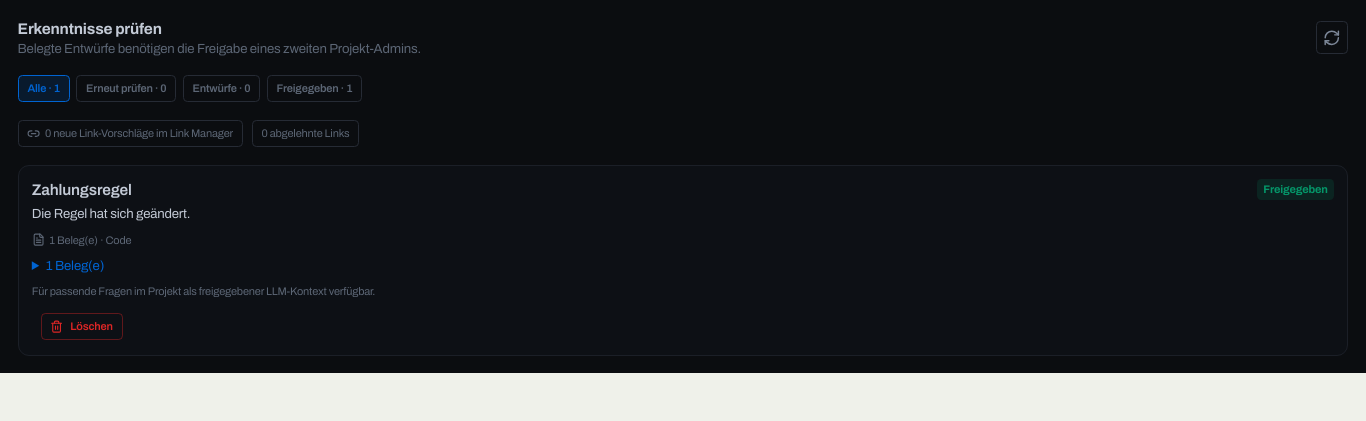
Test: keeps a failed deletion visible and shows the error
Step 1. Click the button "Löschen" → (82,327), box [41, 313, 123, 340]
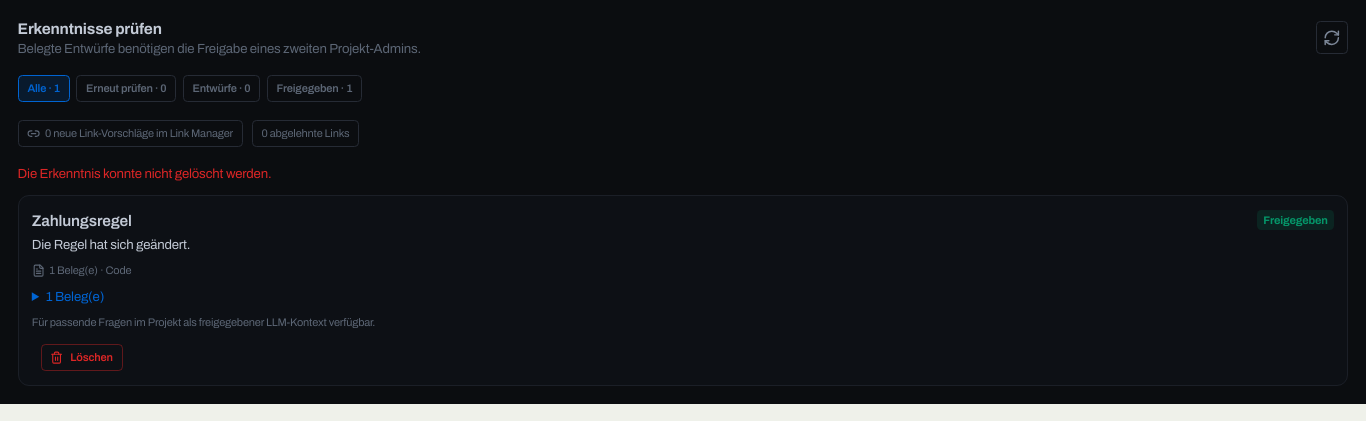
Check: the heading "Zahlungsregel" is shown, box [32, 212, 132, 228]
Check: the text "Die Erkenntnis konnte nicht gelöscht werden." is shown, box [18, 166, 271, 180]
